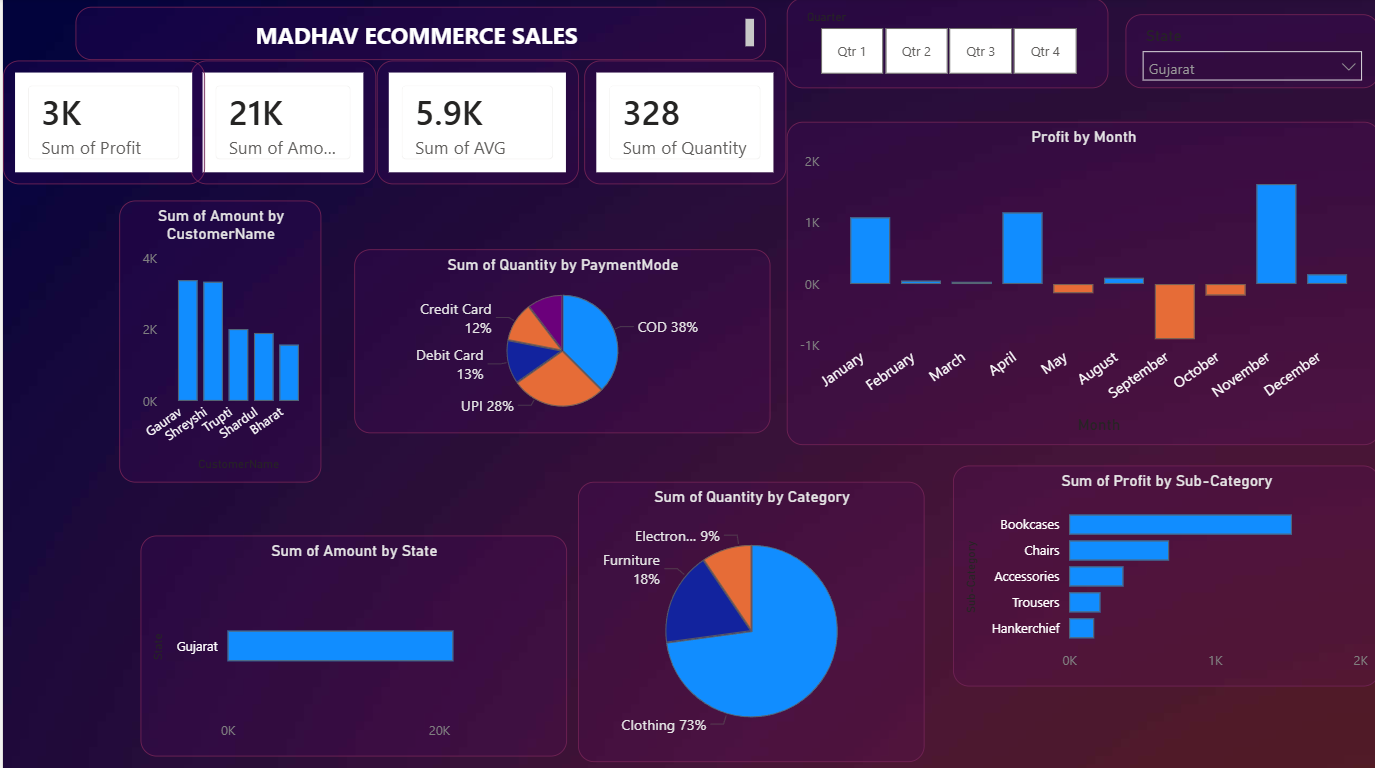

The page's visual inventory and layout, read from the dashboard file:
{"tool":"powerbi","page":{"name":"Page 1","canvas":[1280,720],"ordinal":0},"visuals":[{"type":"textbox","box":[67.2,8.2,642.2,49.4],"z":0},{"type":"columnChart","title":" Profit by Month","fields":{"Category":["Orders.Order Date.Variation.Date Hierarchy.Month"],"Y":["Sum(Details.Profit)"]},"box":[728.6,115.3,551.6,300.5],"z":1000},{"type":"barChart","fields":{"Category":["Details.Sub-Category"],"Y":["Sum(Details.Profit)"]},"box":[883.7,435,396.6,205.8],"z":2000},{"type":"pieChart","fields":{"Category":["Details.Category"],"Y":["Sum(Details.Quantity)"]},"box":[535.2,450.1,322.5,260.7],"z":3000},{"type":"pieChart","fields":{"Category":["Details.PaymentMode"],"Y":["Sum(Details.Quantity)"]},"box":[326.6,233.3,387,171.5],"z":4000},{"type":"cardVisual","fields":{"Data":["Sum(Details.Amount)"]},"box":[174.3,57.6,172.9,115.3],"z":5000},{"type":"cardVisual","fields":{"Data":["Sum(Details.Profit)"]},"box":[0,57.6,188,115.3],"z":6000},{"type":"cardVisual","fields":{"Data":["Sum(Details.Quantity)"]},"box":[540.7,57.6,188,115.3],"z":7000},{"type":"cardVisual","fields":{"Data":["Sum(Details.AVG)"]},"box":[347.2,57.6,188,115.3],"z":8000},{"type":"barChart","fields":{"Category":["Orders.State"],"Y":["Sum(Details.Amount)"]},"box":[127.6,499.5,396.6,205.8],"z":9000},{"type":"columnChart","fields":{"Category":["Orders.CustomerName"],"Y":["Sum(Details.Amount)"]},"box":[108.4,188,188,262.1],"z":10000},{"type":"slicer","fields":{"Values":["Orders.Order Date.Variation.Date Hierarchy.Quarter"]},"box":[728.6,0,299.1,83.7],"z":10001},{"type":"slicer","fields":{"Values":["Orders.State"]},"box":[1044.3,15.1,236,68.6],"z":10002}]}

Visuals, with their boxes in screenshot pixels (x1, y1, x2, y2), scaled from the page's 1280x720 canvas onto the 1375x768 screenshot:
textbox: <region>72, 9, 762, 61</region>
" Profit by Month" columnChart: <region>783, 123, 1374, 444</region>
barChart - Details.Sub-Category x Sum(Details.Profit): <region>949, 464, 1374, 684</region>
pieChart - Details.Category x Sum(Details.Quantity): <region>575, 480, 921, 758</region>
pieChart - Details.PaymentMode x Sum(Details.Quantity): <region>351, 249, 767, 432</region>
cardVisual - Sum(Details.Amount): <region>187, 61, 373, 184</region>
cardVisual - Sum(Details.Profit): <region>0, 61, 202, 184</region>
cardVisual - Sum(Details.Quantity): <region>581, 61, 783, 184</region>
cardVisual - Sum(Details.AVG): <region>373, 61, 575, 184</region>
barChart - Orders.State x Sum(Details.Amount): <region>137, 533, 563, 752</region>
columnChart - Orders.CustomerName x Sum(Details.Amount): <region>116, 201, 318, 480</region>
slicer - Orders.Order Date.Variation.Date Hierarchy.Quarter: <region>783, 0, 1104, 89</region>
slicer - Orders.State: <region>1122, 16, 1374, 89</region>
